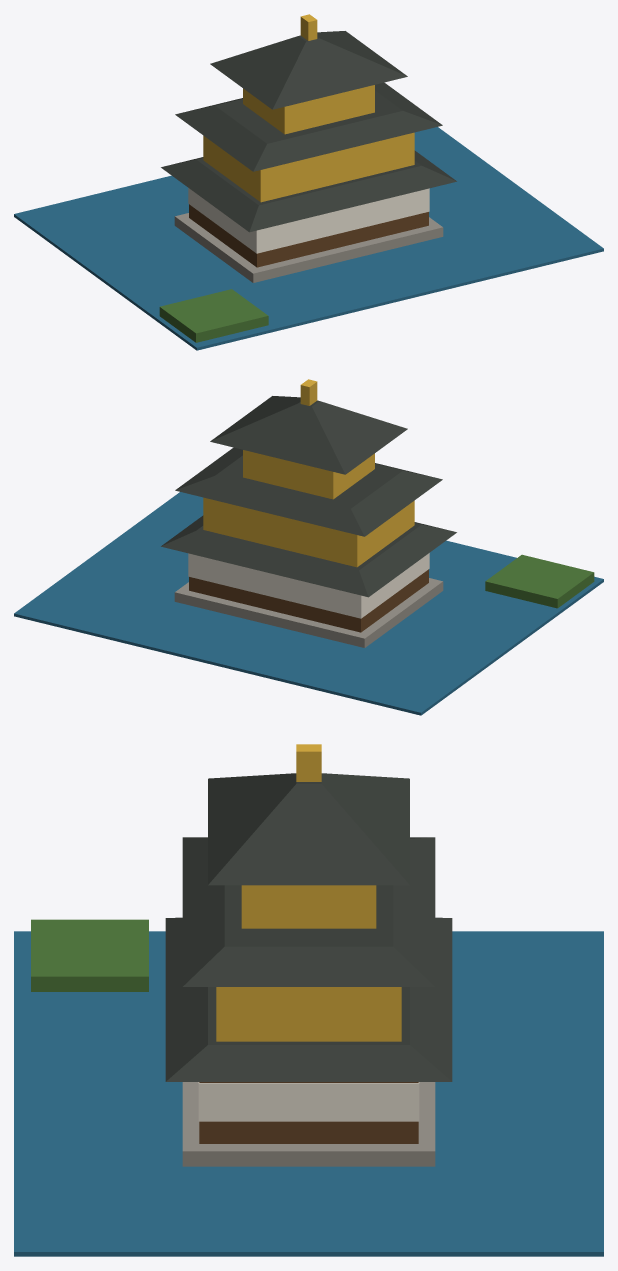
File: pavilion.glb
The picture shows the model from 3 angles, top to bottom: view 1: azimuth 30°, elevation 25°; view 2: azimuth 150°, elevation 25°; view 3: azimuth 270°, elevation 25°; orthographic projection. The views are drawn at different scales.
Size of the model in its own units: 0.9 by 0.456 by 0.7.
